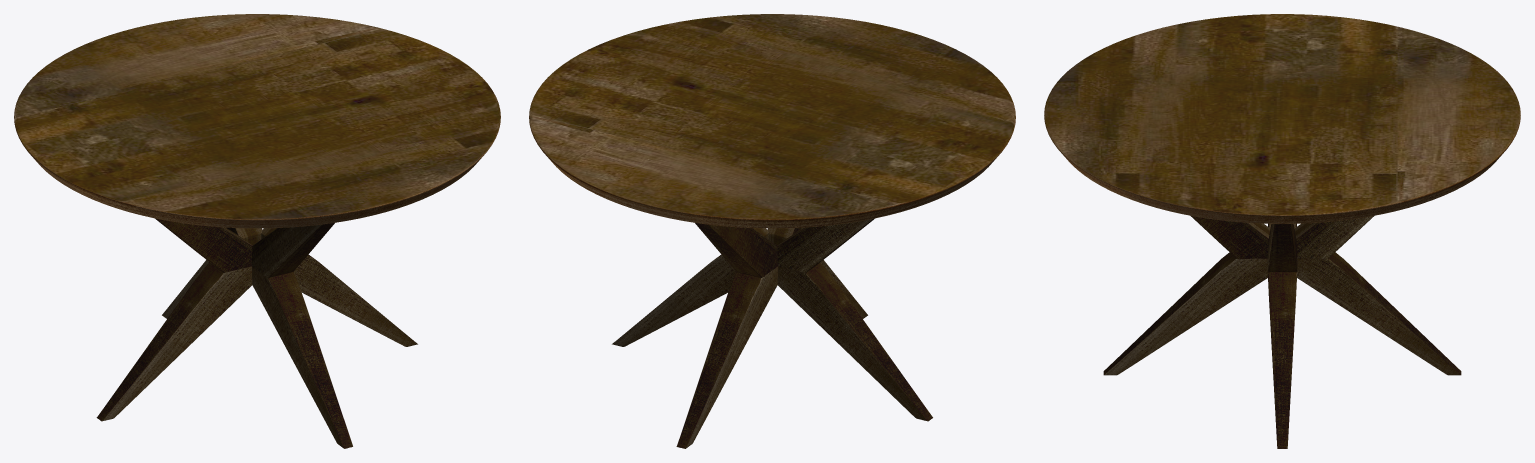
File: MCRW5608.obj
3 views of the same model, side by side, from view 1: azimuth 30°, elevation 25°; view 2: azimuth 150°, elevation 25°; view 3: azimuth 270°, elevation 25° (orthographic). The views are drawn at different scales.
Visible parts, largest first — view 1: not_clear_obj_1_v6, not_clear_obj_0_v6, not_clear_obj_2_v6; view 2: not_clear_obj_1_v6, not_clear_obj_0_v6, not_clear_obj_2_v6; view 3: not_clear_obj_1_v6, not_clear_obj_0_v6, not_clear_obj_2_v6.
Part boxes in pixels (x1,y1,x2,y2): not_clear_obj_1_v6: [14, 14, 500, 219]; not_clear_obj_0_v6: [96, 218, 417, 448]; not_clear_obj_2_v6: [14, 72, 500, 228]; not_clear_obj_1_v6: [529, 14, 1015, 219]; not_clear_obj_0_v6: [612, 218, 932, 448]; not_clear_obj_2_v6: [529, 49, 1015, 228]; not_clear_obj_1_v6: [1044, 14, 1520, 223]; not_clear_obj_0_v6: [1103, 215, 1461, 448]; not_clear_obj_2_v6: [1044, 71, 1520, 223].
Size of what is drawn, in the model's own units: 127 by 76.2 by 127.
